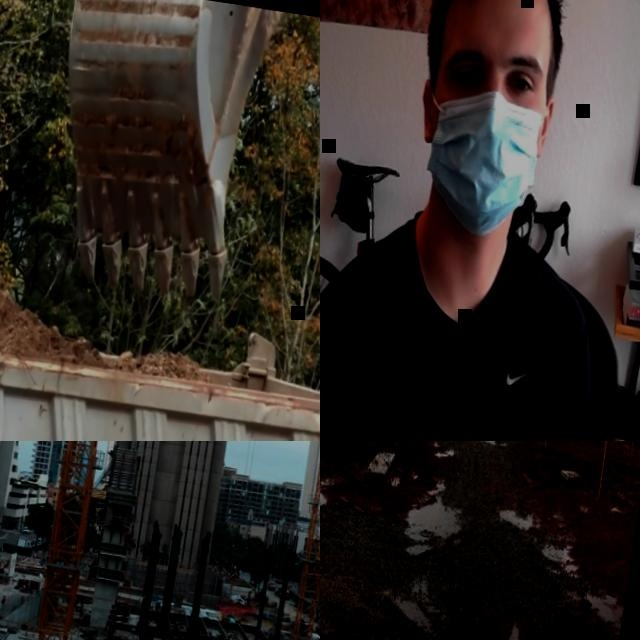Hardhat: (4, 593, 7, 595)
Mask: (413, 86, 549, 247)
NO-Hardhat: (431, 0, 569, 37)
NO-Safety Vest: (320, 214, 567, 441)
Person: (320, 0, 640, 441), (1, 592, 8, 605)
machinery: (34, 0, 288, 310), (0, 211, 320, 441), (267, 580, 277, 590)
